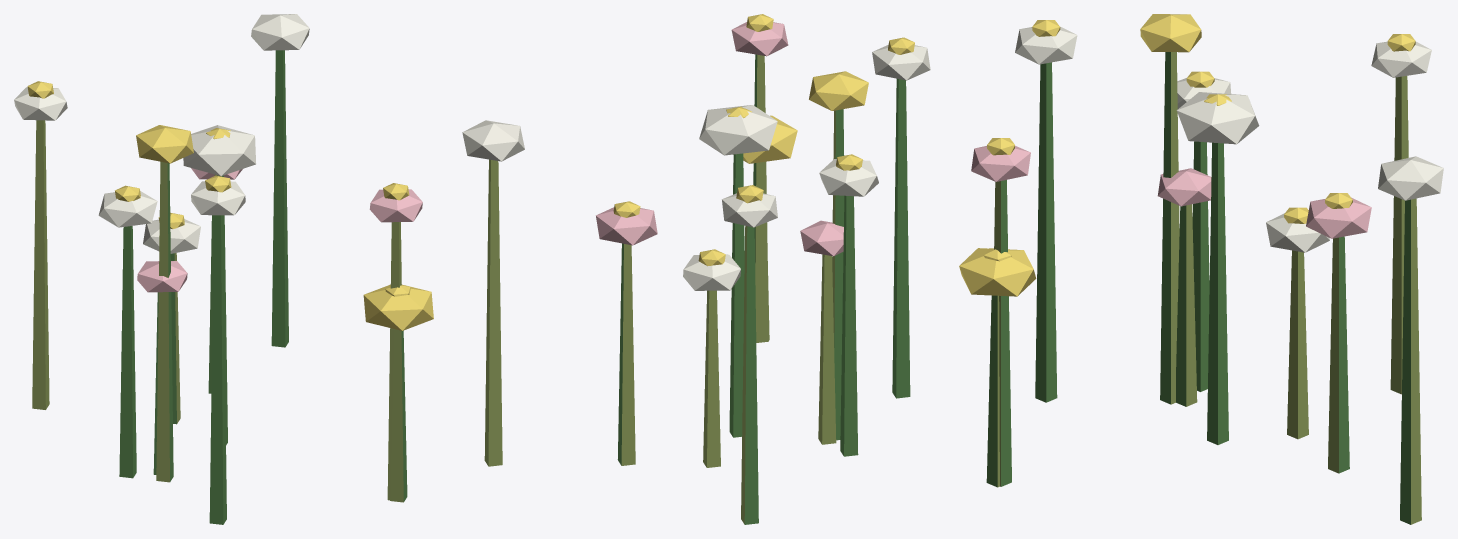
The model's file is flower_patch.glb.
The picture shows the model from 3 angles, left to right: view 1: azimuth 30°, elevation 25°; view 2: azimuth 150°, elevation 25°; view 3: azimuth 270°, elevation 25°; orthographic projection. The views are drawn at different scales.
Parts seen in each view (by area): view 1: flower_patch; view 2: flower_patch; view 3: flower_patch.
Part boxes in pixels (x1,y1,x2,y2): flower_patch: [14, 14, 433, 524]; flower_patch: [462, 14, 930, 524]; flower_patch: [959, 14, 1443, 524].
Bounding box in the file's own units: 0.4145 × 0.4637 × 0.5294.
